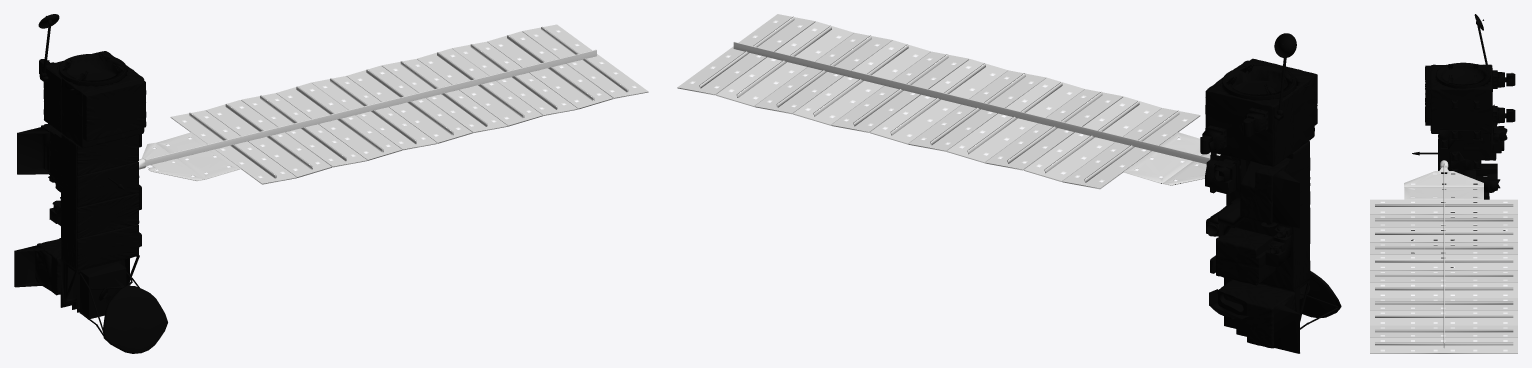
The model's file is Aqua-label-solar_panel.fbx.
3 views of the same model, side by side, from view 1: azimuth 30°, elevation 25°; view 2: azimuth 150°, elevation 25°; view 3: azimuth 270°, elevation 25° (orthographic). The views are drawn at different scales.
Parts seen in each view (by area): view 1: Aqua-label-solar_panel; view 2: Aqua-label-solar_panel; view 3: Aqua-label-solar_panel.
Boxes of the visible parts, bbox=[...] form: Aqua-label-solar_panel: bbox=[14, 14, 648, 353]; Aqua-label-solar_panel: bbox=[677, 14, 1341, 353]; Aqua-label-solar_panel: bbox=[1370, 14, 1517, 353].
Size of the model in its own units: 142 by 75.21 by 40.63.
23 materials, 2 textured.
